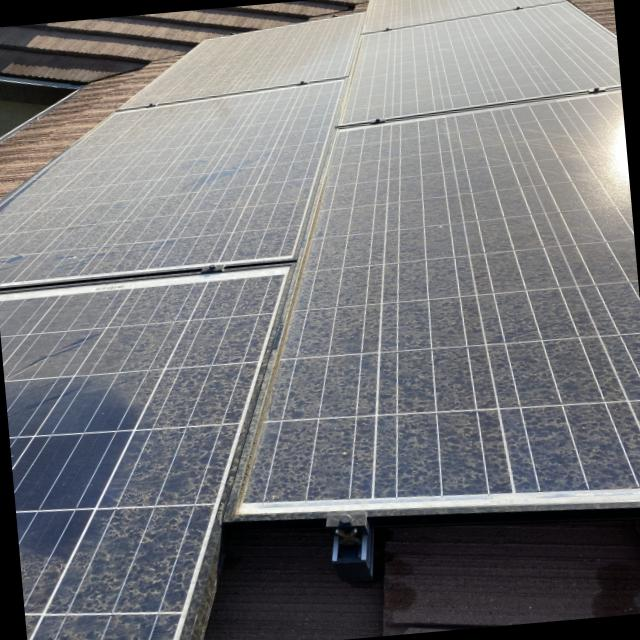faulty: (235, 89, 640, 500), (0, 278, 281, 640), (0, 81, 332, 293), (329, 2, 618, 122), (133, 12, 351, 101)
